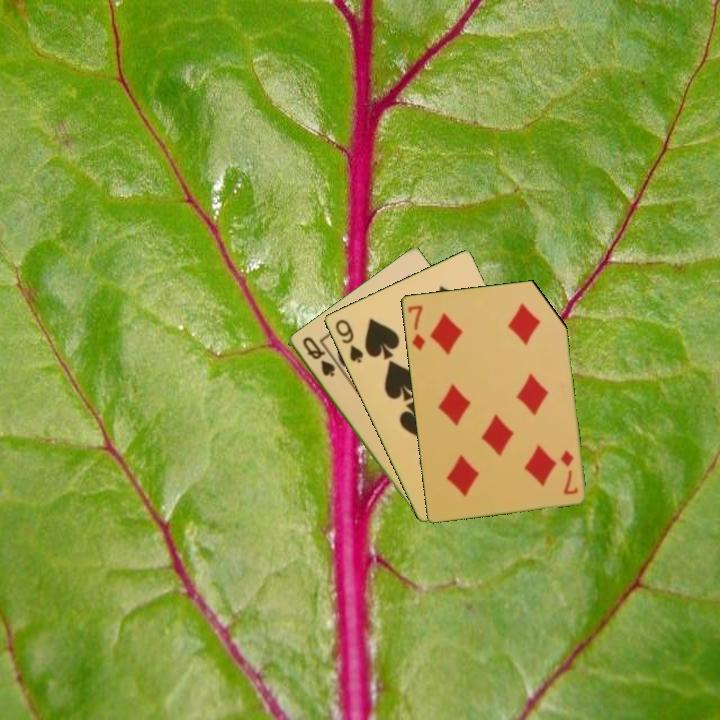7d: (556, 446, 581, 497), (404, 301, 428, 353)
9s: (331, 315, 366, 366)
Qs: (299, 333, 338, 380)
